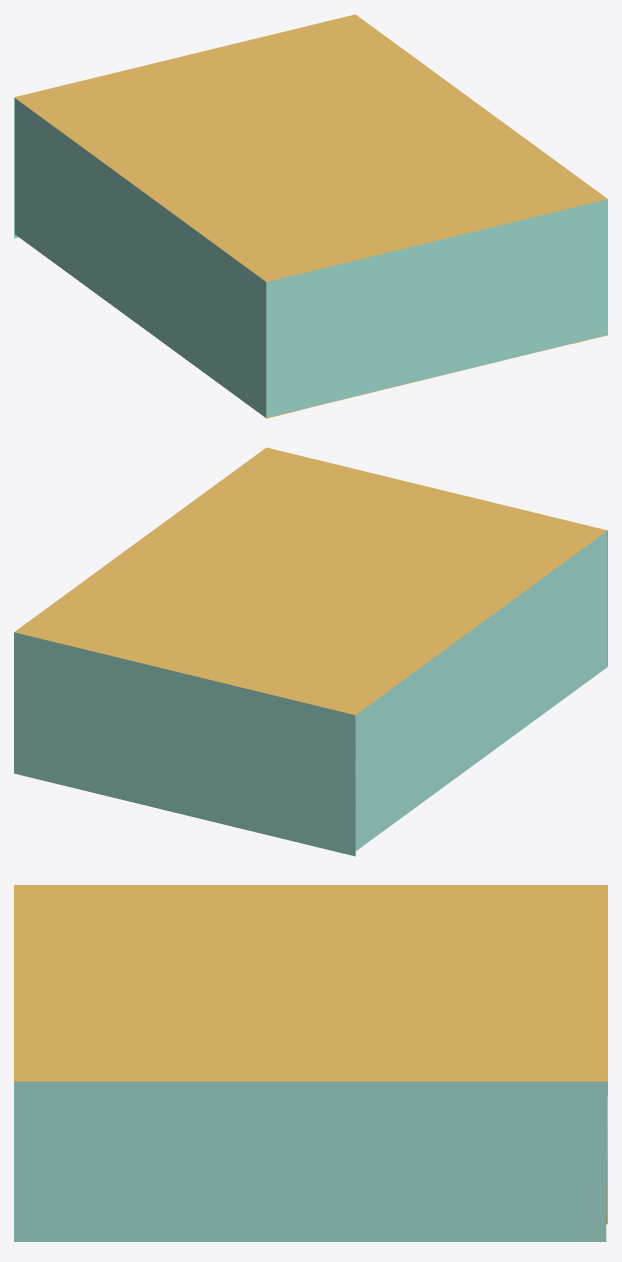
Rendered from floor.gltf.
3 renders of one model, top to bottom at view 1: azimuth 30°, elevation 25°; view 2: azimuth 150°, elevation 25°; view 3: azimuth 270°, elevation 25°, orthographic. The views are drawn at different scales.
Parts seen in each view (by area): view 1: Plane; view 2: Plane; view 3: Plane.
Part boxes in pixels (bbox=[...]): Plane: bbox=[14, 14, 607, 418]; Plane: bbox=[14, 447, 607, 856]; Plane: bbox=[14, 885, 607, 1241].
Size of the model in its own units: 19.08 by 7.56 by 24.43.
